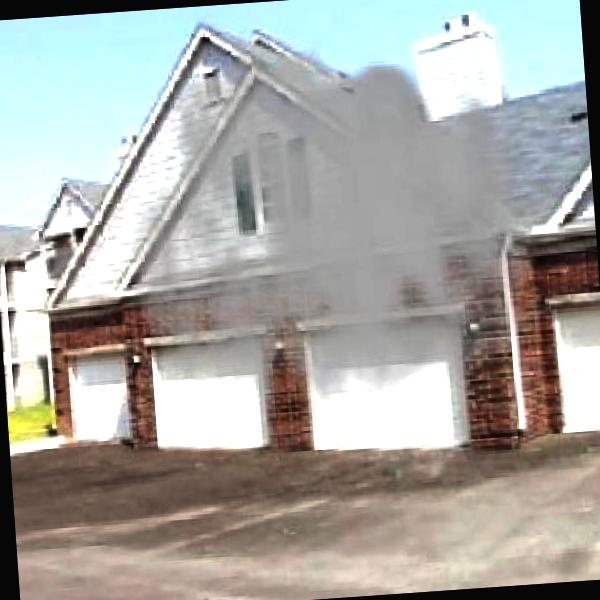smoke: (159, 20, 597, 414)
